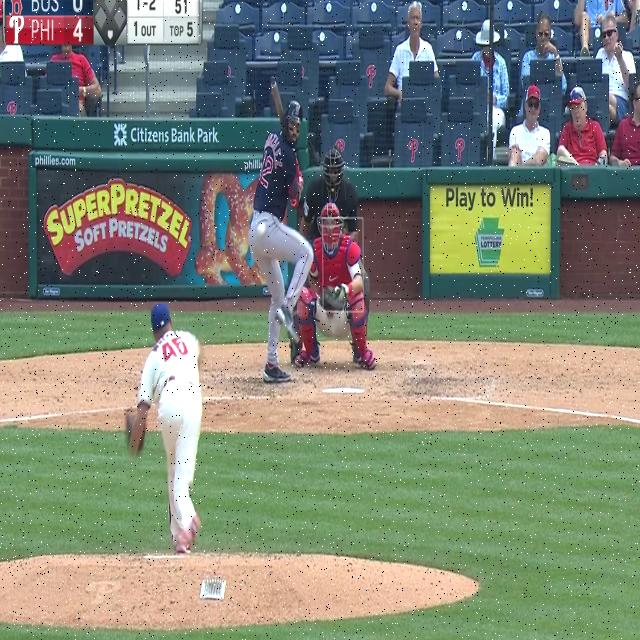baseball: (256, 222, 266, 237)
